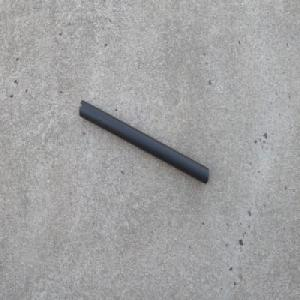LuggagePart: (78, 98, 210, 185)
